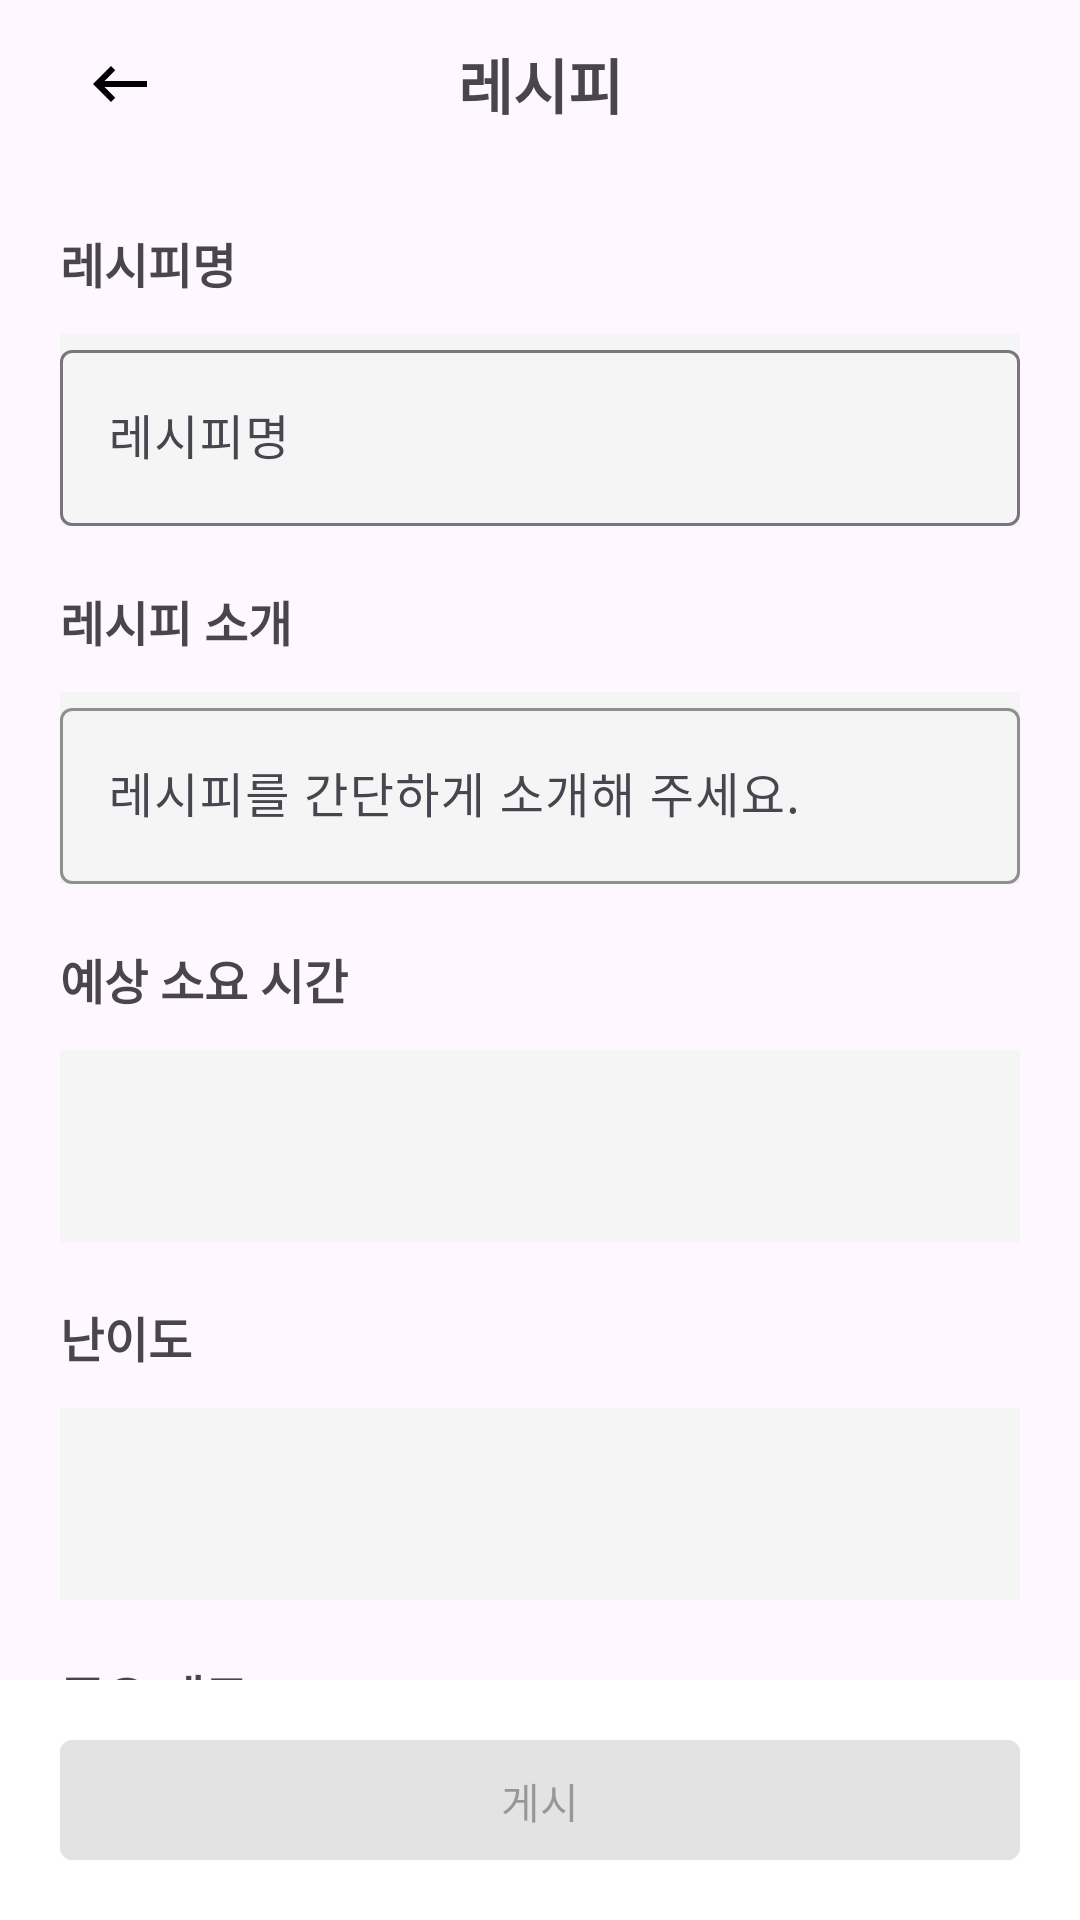

Locate icon controls on the screen. Image size 1080px x 1920px, boxes as (x1, y1, x2, y2).
back: (93, 66, 147, 102)
